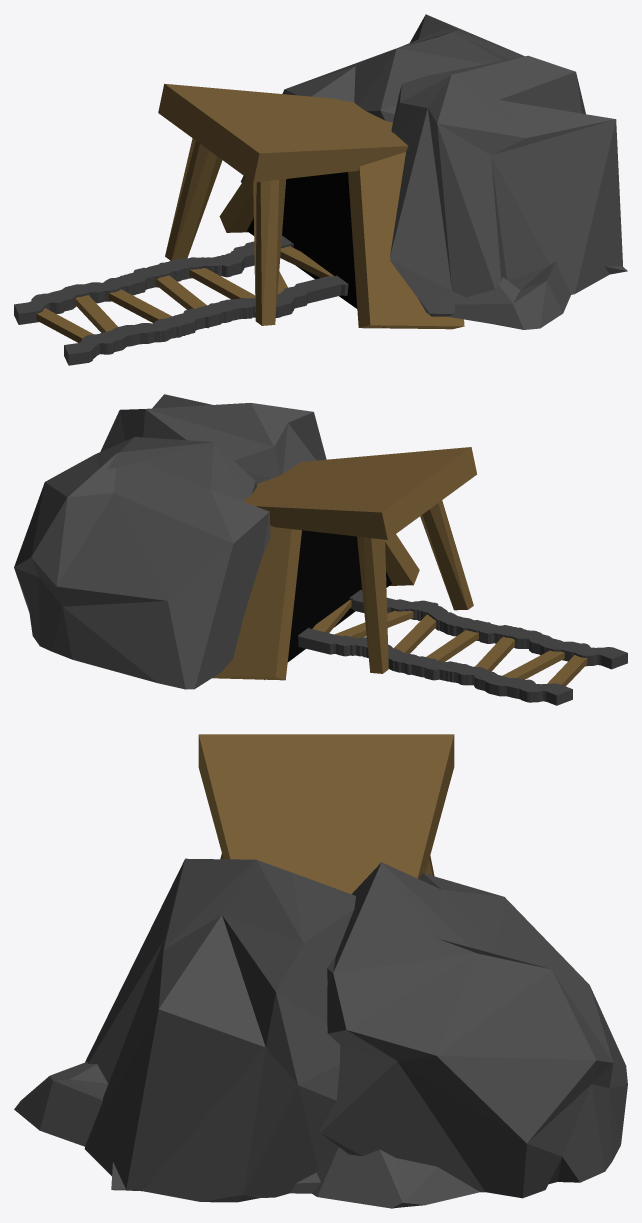
File: mine_entrance_gray.fbx
3 renders of one model, top to bottom at view 1: azimuth 30°, elevation 25°; view 2: azimuth 150°, elevation 25°; view 3: azimuth 270°, elevation 25°, orthographic. The views are drawn at different scales.
Parts seen in each view (by area): view 1: Rock, Shaft, Rails, DARKNESS, Ties; view 2: Rock, Shaft, Rails, DARKNESS, Ties; view 3: Rock, Shaft.
Boxes of the visible parts, <box> form: Rock: <box>240,14,627,329</box>; Shaft: <box>158,83,464,329</box>; Rails: <box>14,235,348,365</box>; DARKNESS: <box>247,172,384,327</box>; Ties: <box>36,246,333,342</box>; Rock: <box>14,394,326,689</box>; Shaft: <box>212,447,477,680</box>; Rails: <box>298,590,627,705</box>; DARKNESS: <box>264,530,391,679</box>; Ties: <box>312,600,587,686</box>; Rock: <box>14,858,627,1208</box>; Shaft: <box>198,734,454,894</box>.
Size of the model in its own units: 1081 by 412 by 789.
